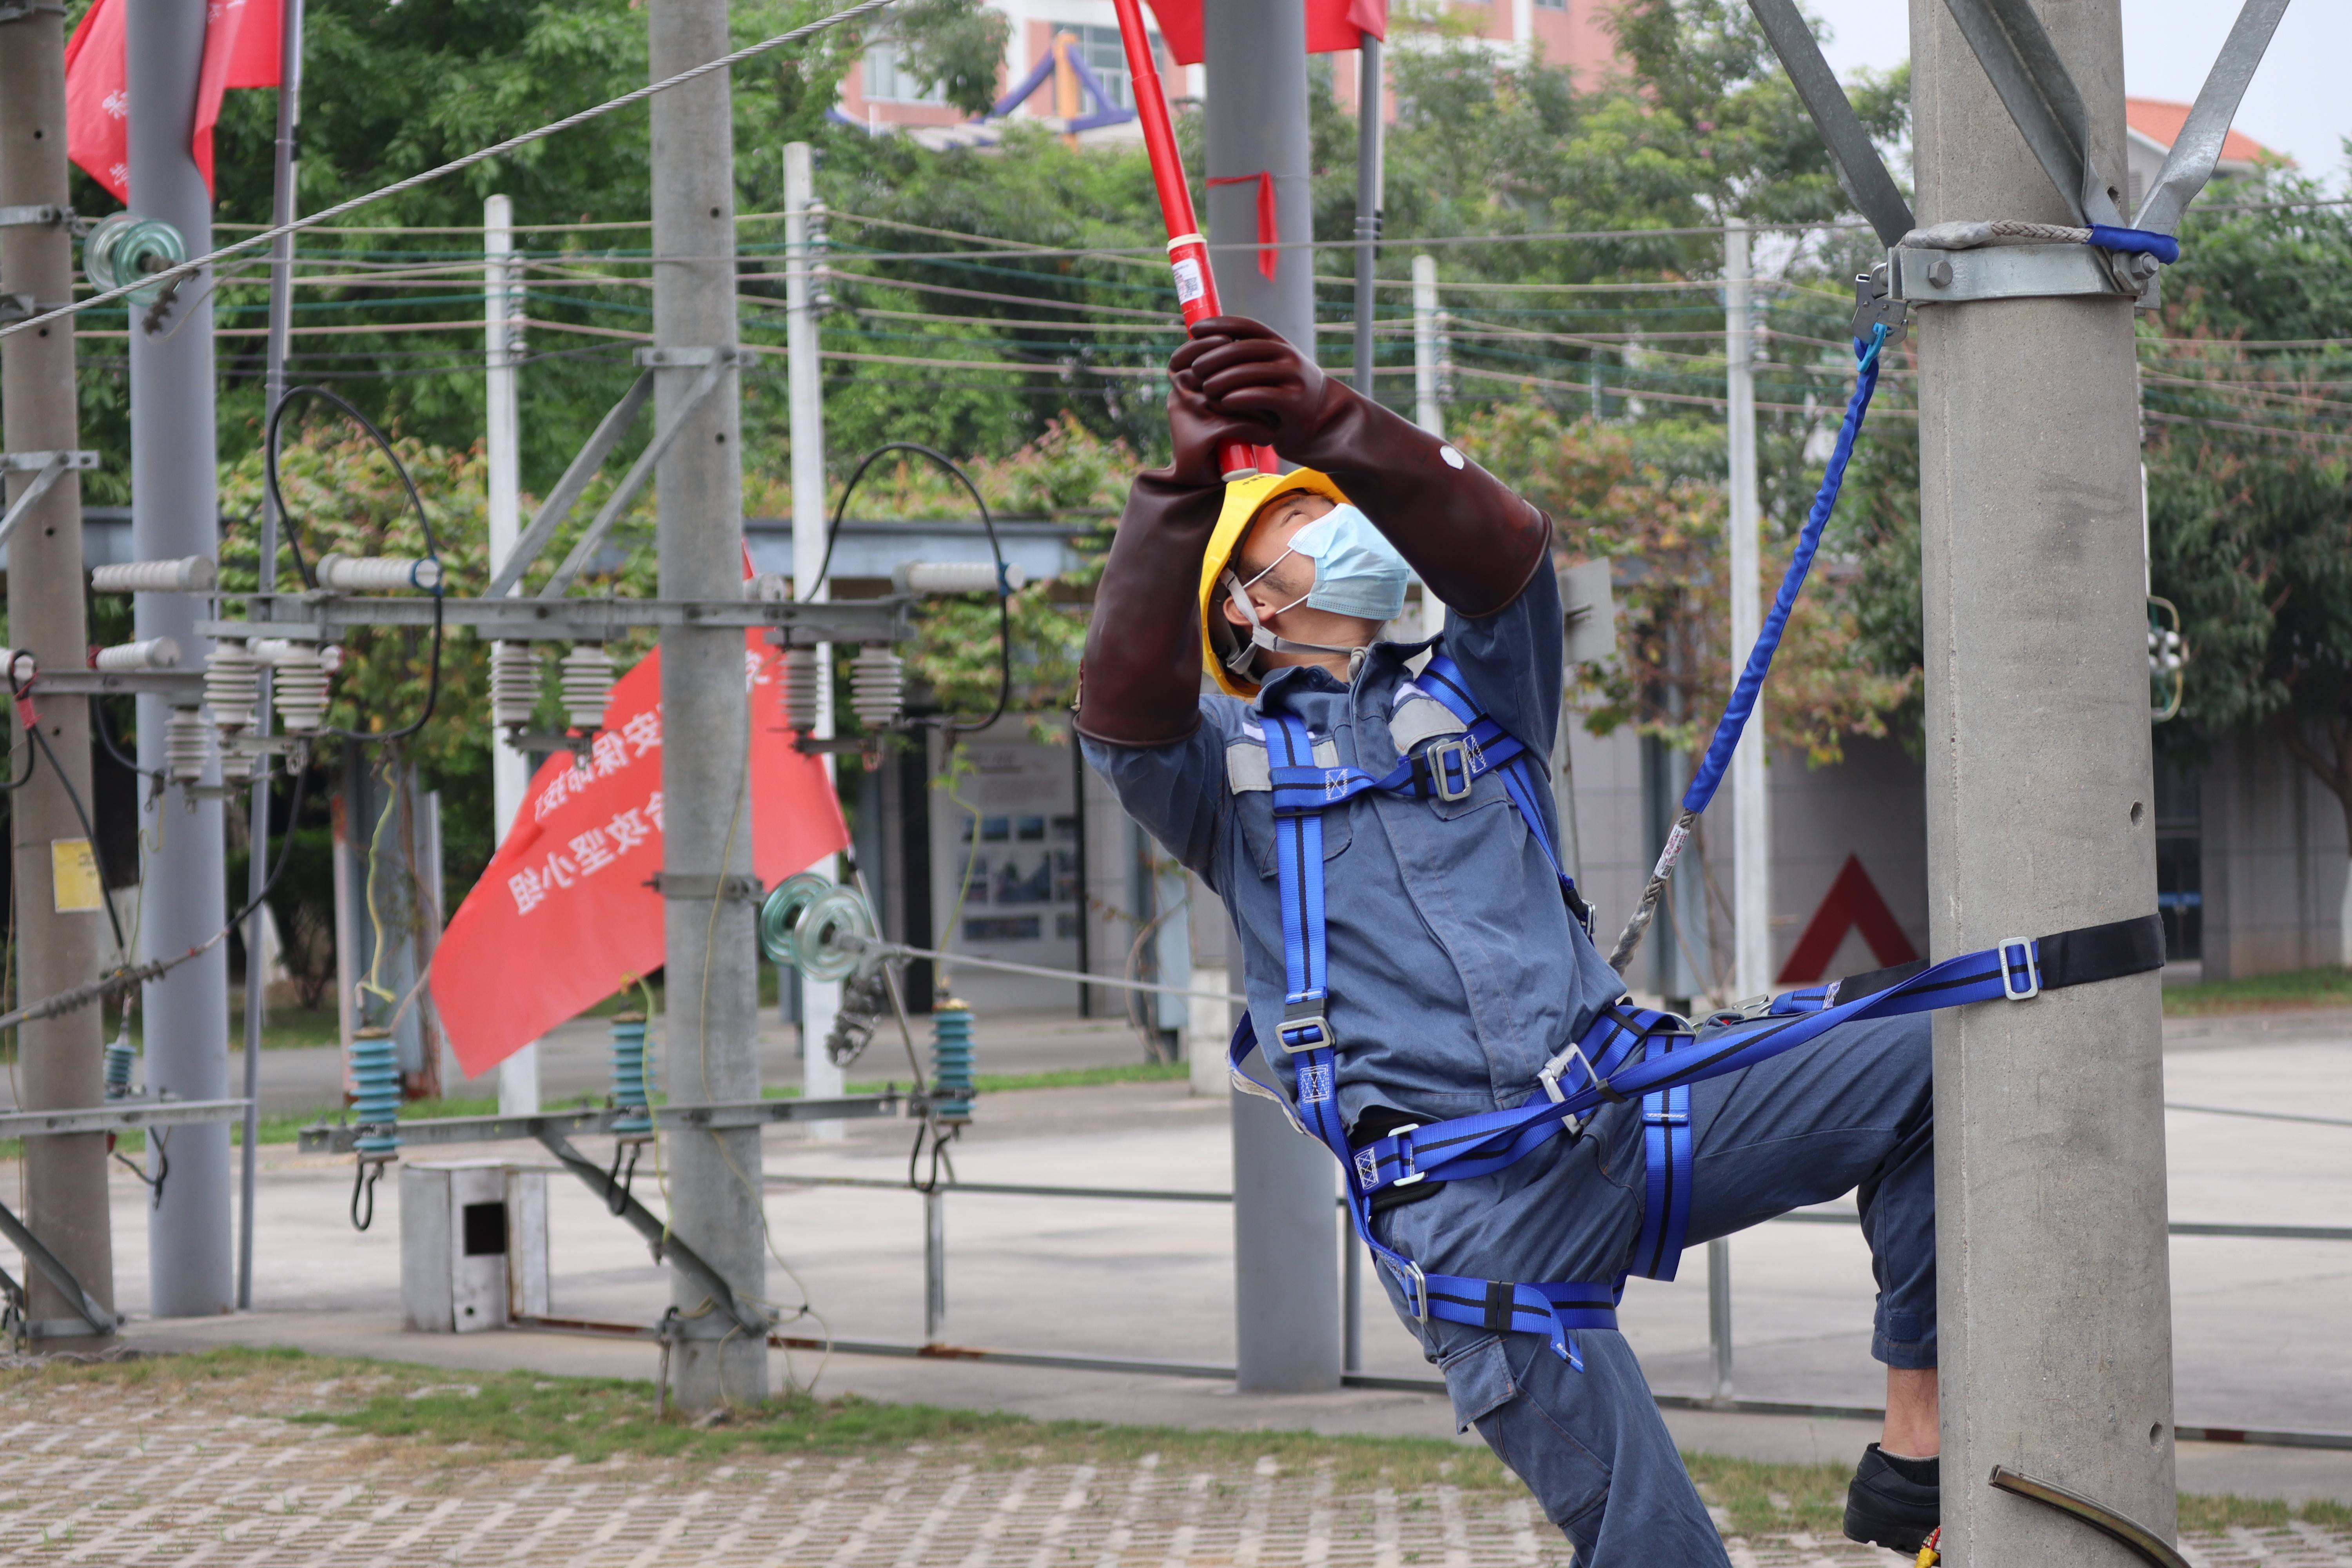downsuit: (1337, 1017, 2026, 1531)
upsuit: (1113, 619, 1645, 1116)
